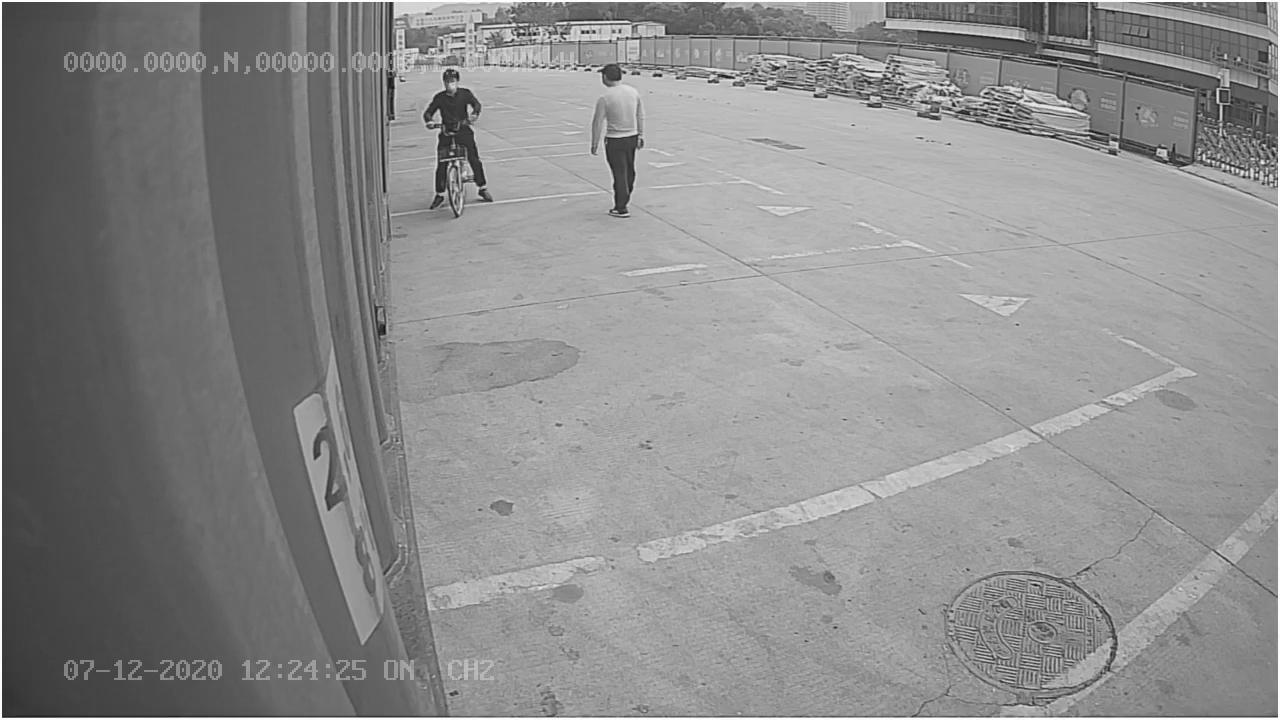person: (583, 60, 651, 219)
